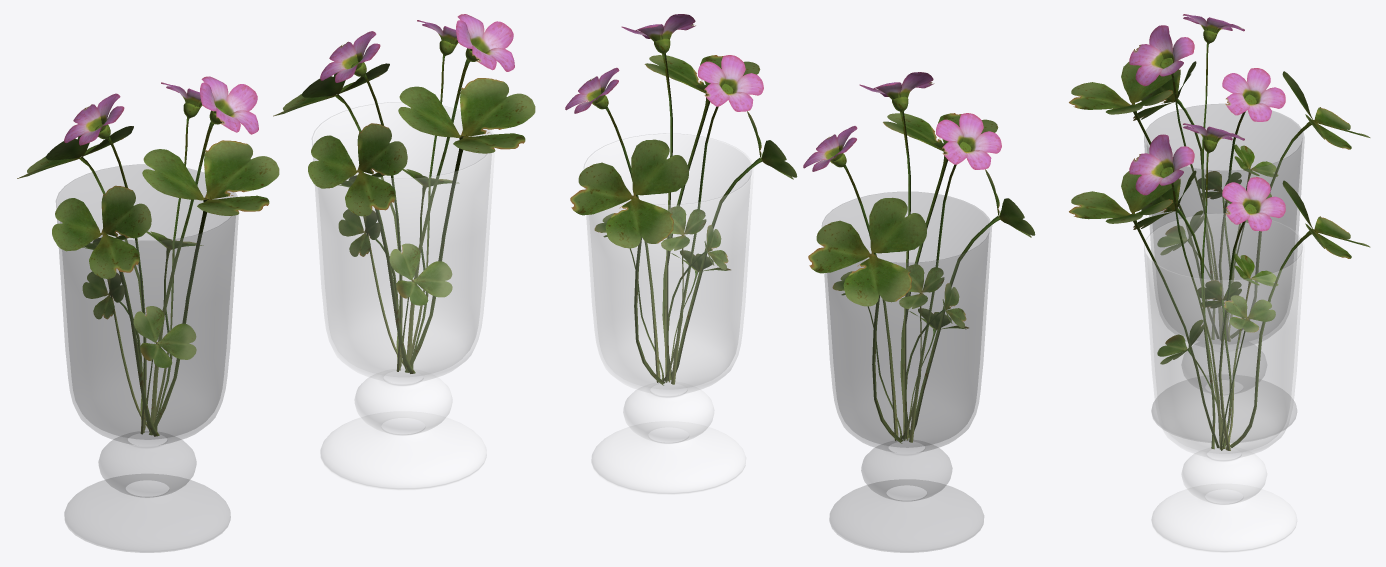
File: GlassVaseFlowers.glb
3 views of the same model, side by side, from view 1: azimuth 30°, elevation 25°; view 2: azimuth 150°, elevation 25°; view 3: azimuth 270°, elevation 25° (orthographic). The views are drawn at different scales.
Parts seen in each view (by area): view 1: GlassAlpha, GlassTransmission, Flowers2, Flowers1; view 2: GlassAlpha, GlassTransmission, Flowers2, Flowers1; view 3: GlassTransmission, GlassAlpha, Flowers2, Flowers1.
Part boxes in pixels (<box>): GlassAlpha: <box>56,164,238,552</box>; GlassTransmission: <box>312,102,494,490</box>; Flowers2: <box>273,14,535,373</box>; Flowers1: <box>17,76,279,436</box>; GlassAlpha: <box>822,192,991,552</box>; GlassTransmission: <box>584,133,753,494</box>; Flowers2: <box>565,14,797,385</box>; Flowers1: <box>803,72,1035,443</box>; GlassTransmission: <box>1144,213,1304,552</box>; GlassAlpha: <box>1144,104,1304,442</box>; Flowers2: <box>1069,123,1370,450</box>; Flowers1: <box>1069,14,1370,341</box>.
Bounding box in the file's own units: 0.2173 × 0.2032 × 0.1425.
3 materials, 1 textured.
